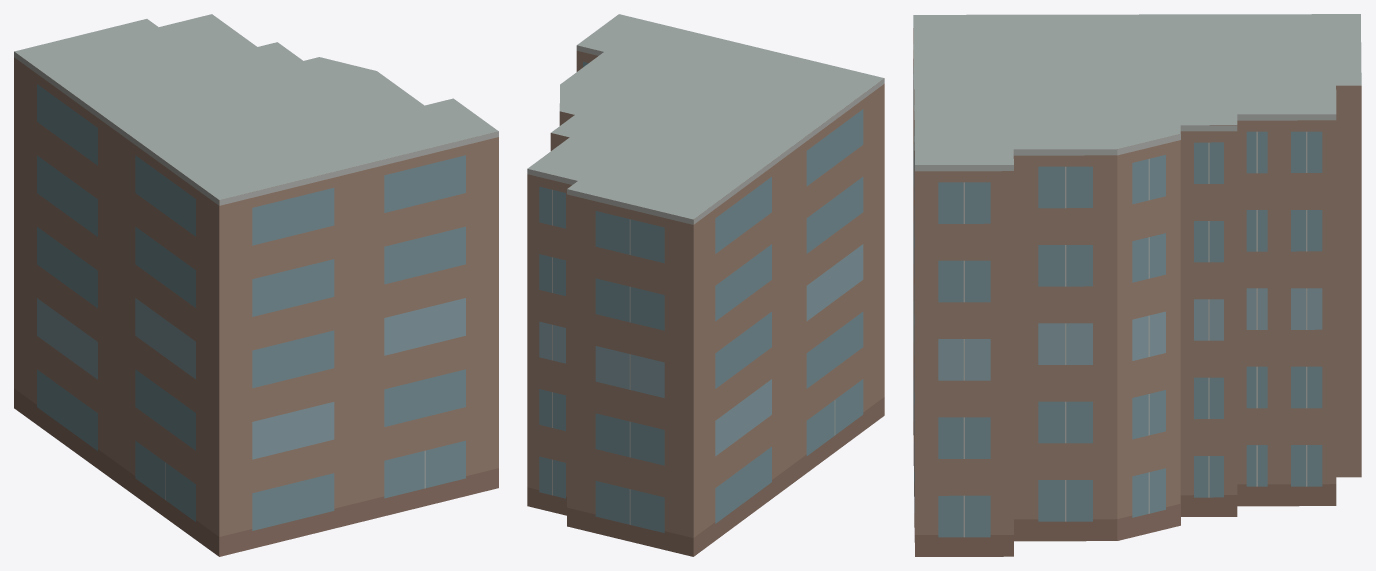
File: survey-upis-32667153.glb
3 views of the same model, side by side, from view 1: azimuth 30°, elevation 25°; view 2: azimuth 150°, elevation 25°; view 3: azimuth 270°, elevation 25° (orthographic). The views are drawn at different scales.
Parts seen in each view (by area): view 1: survey-upis-32667153.tmp; view 2: survey-upis-32667153.tmp; view 3: survey-upis-32667153.tmp.
Boxes of the visible parts, x1=… form: survey-upis-32667153.tmp: x1=14, y1=14, x2=498, y2=556; survey-upis-32667153.tmp: x1=527, y1=14, x2=884, y2=556; survey-upis-32667153.tmp: x1=913, y1=14, x2=1361, y2=556.
Size of the model in its own units: 12.62 by 15.25 by 15.82.
